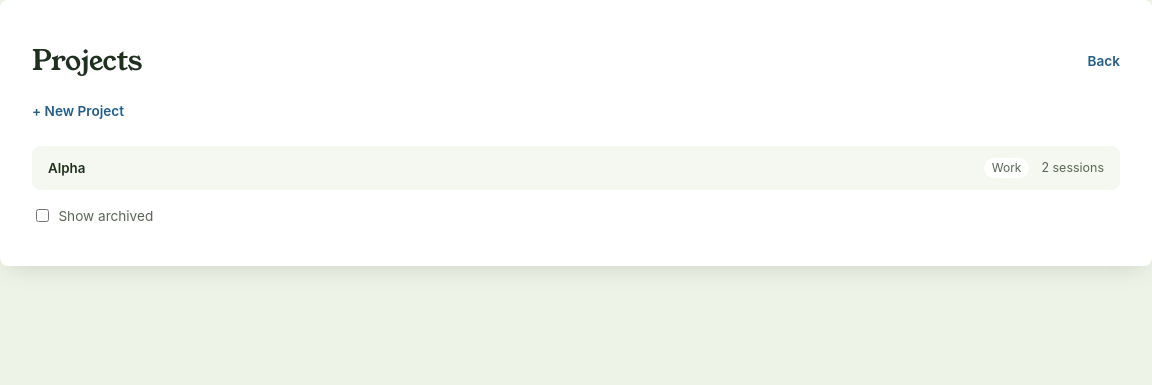
Test case: Projects › shows each project row's correct session count, and its total focus time in the detail view
This screenshot has width=1152, height=385.
Expected: the text "2 sessions" is shown, x1=1041 y1=160 x2=1104 y2=175
What coordinates should you click on to do the following:
click the button "Alpha Work 2 sessions"
I would click on:
 (67, 168)
Its box is x1=32 y1=146 x2=1120 y2=190.
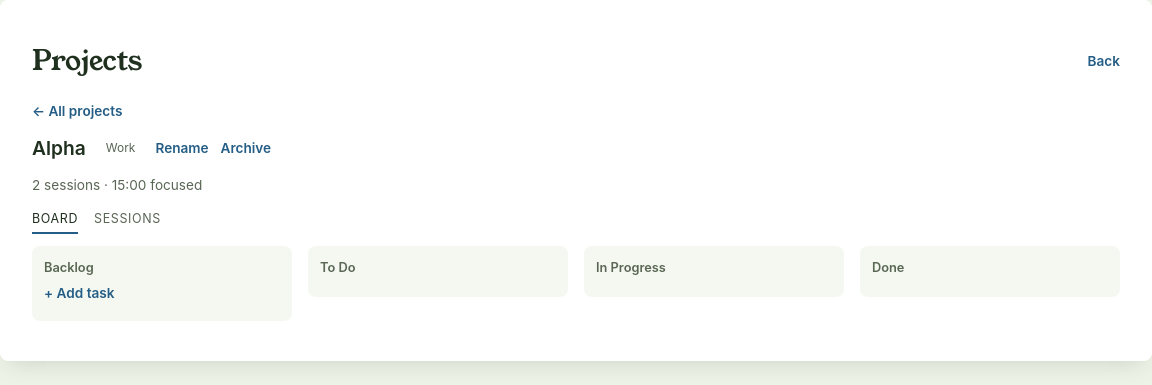
Now the text with class "stat-line" shows "2 sessions", box x1=32 y1=177 x2=202 y2=193
Now the text with class "stat-line" shows "15:00 focused", box x1=32 y1=177 x2=202 y2=193
